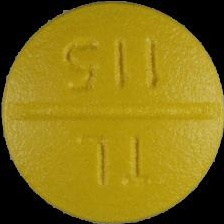21695-572: (0, 0, 224, 224)
